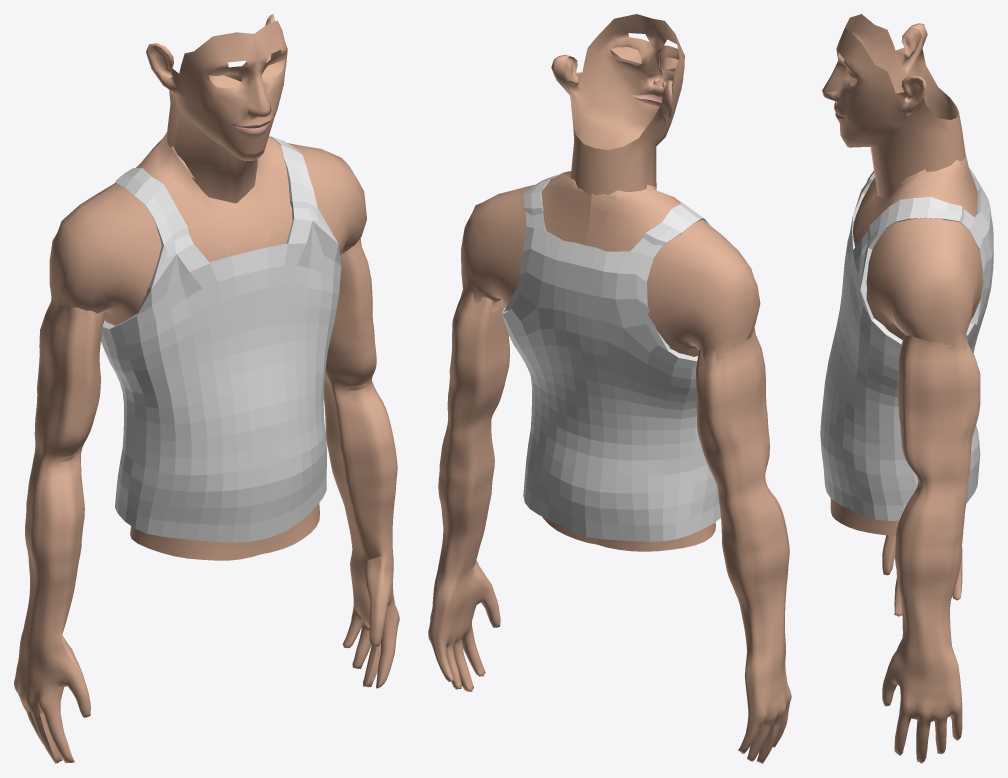
The model's file is Outfit_1.fbx.
3 renders of one model, left to right at view 1: azimuth 30°, elevation 25°; view 2: azimuth 150°, elevation 25°; view 3: azimuth 270°, elevation 25°, orthographic. The views are drawn at different scales.
Parts seen in each view (by area): view 1: Retopo_Кофта.044; view 2: Retopo_Кофта.044; view 3: Retopo_Кофта.044.
Part boxes in pixels (box(x1,y1,x2,y2)): Retopo_Кофта.044: box(14, 14, 399, 763); Retopo_Кофта.044: box(428, 14, 791, 763); Retopo_Кофта.044: box(820, 14, 993, 763).
Size of the model in its own units: 55.19 by 104 by 24.53.
